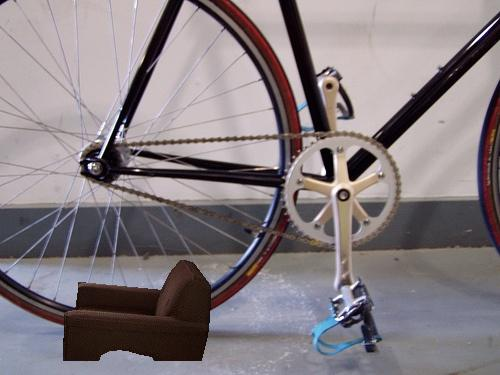tampered: (64, 261, 211, 361)
